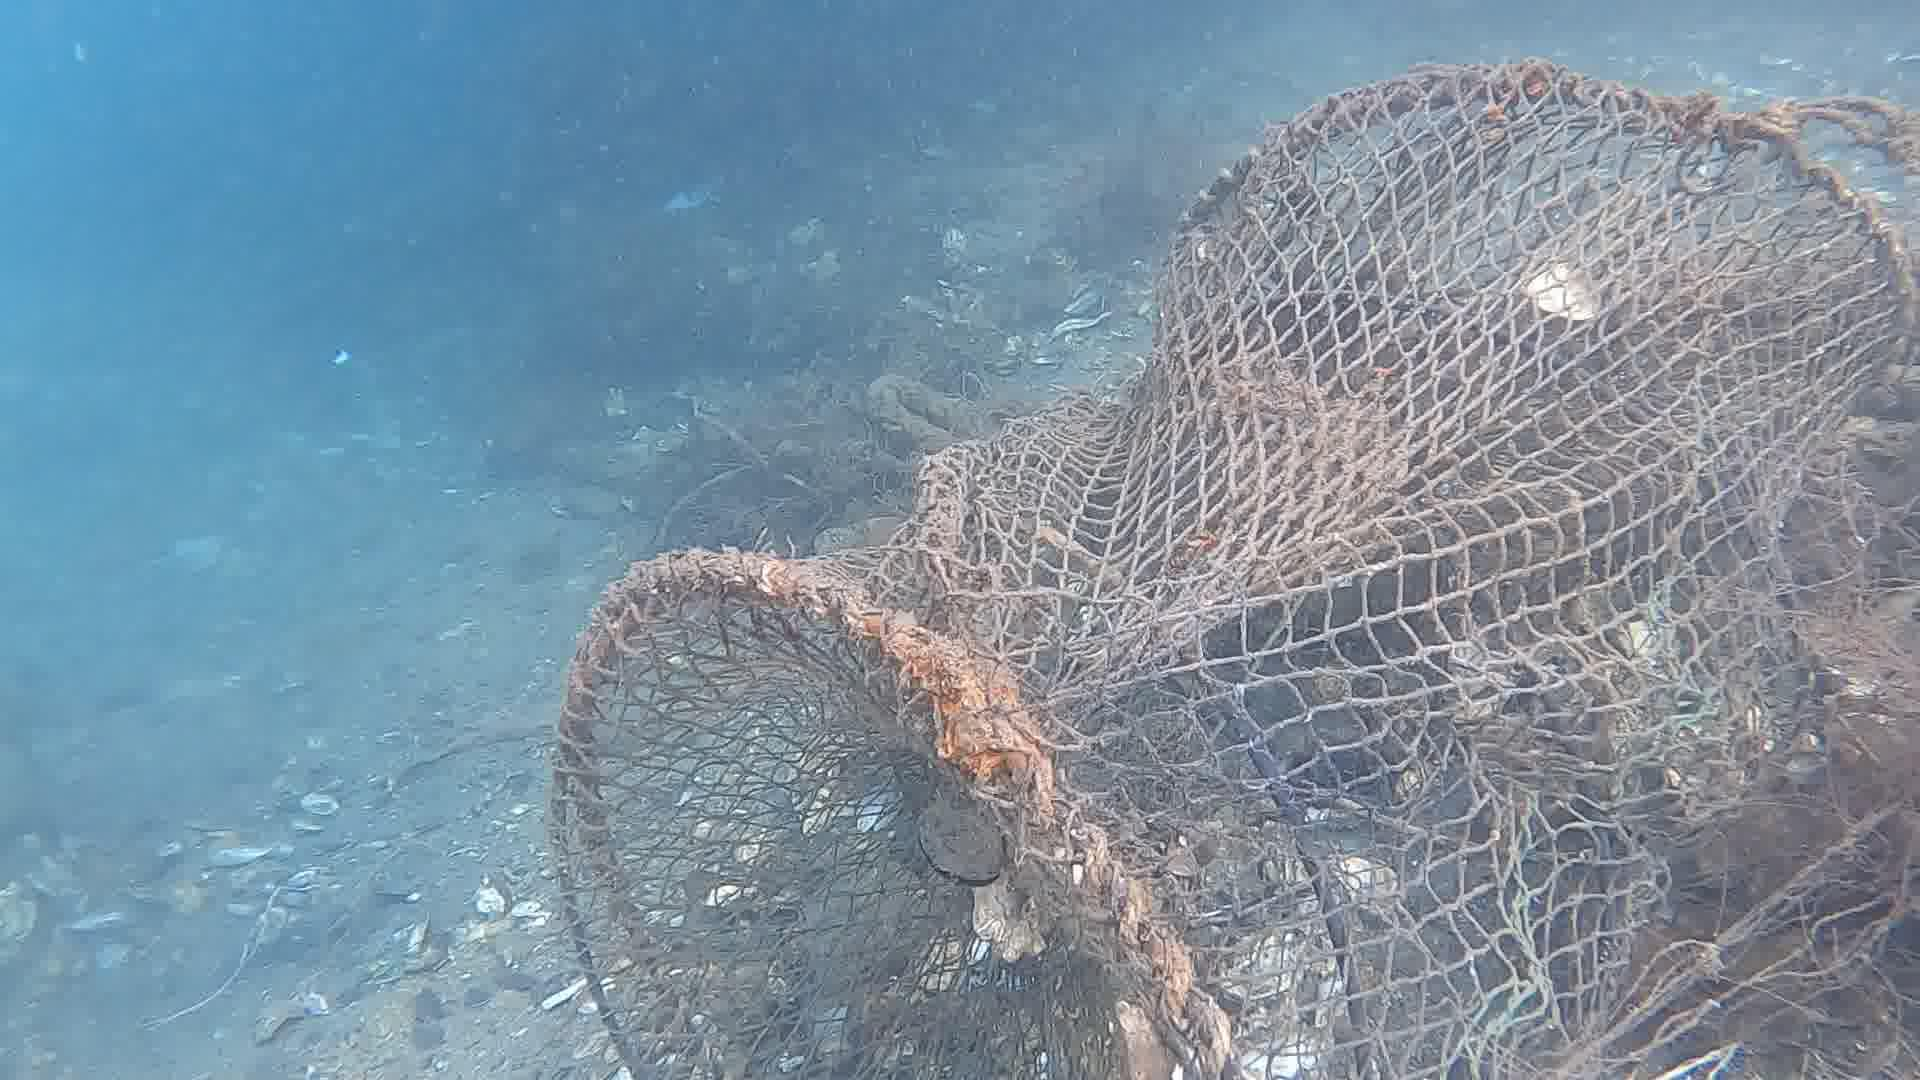spring fish trap: (560, 61, 1920, 1080)
